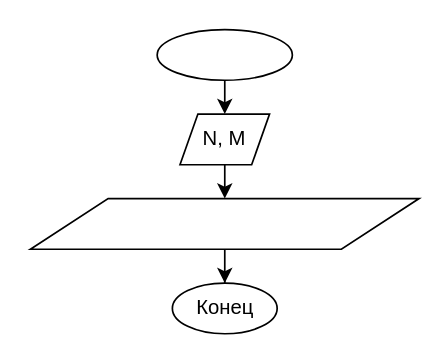
The diagram is 448 pixels wide and 363 high, and some of its shapes have lost their labels. The shapes that lost their labels are listed below. From the top down, each one's box as (x1, y1, x2, y2) in pixels, then its label:
(155, 28, 292, 80): Начало
(29, 197, 419, 249): 2 * N * N - 4 * N * M + 2 * M * M
